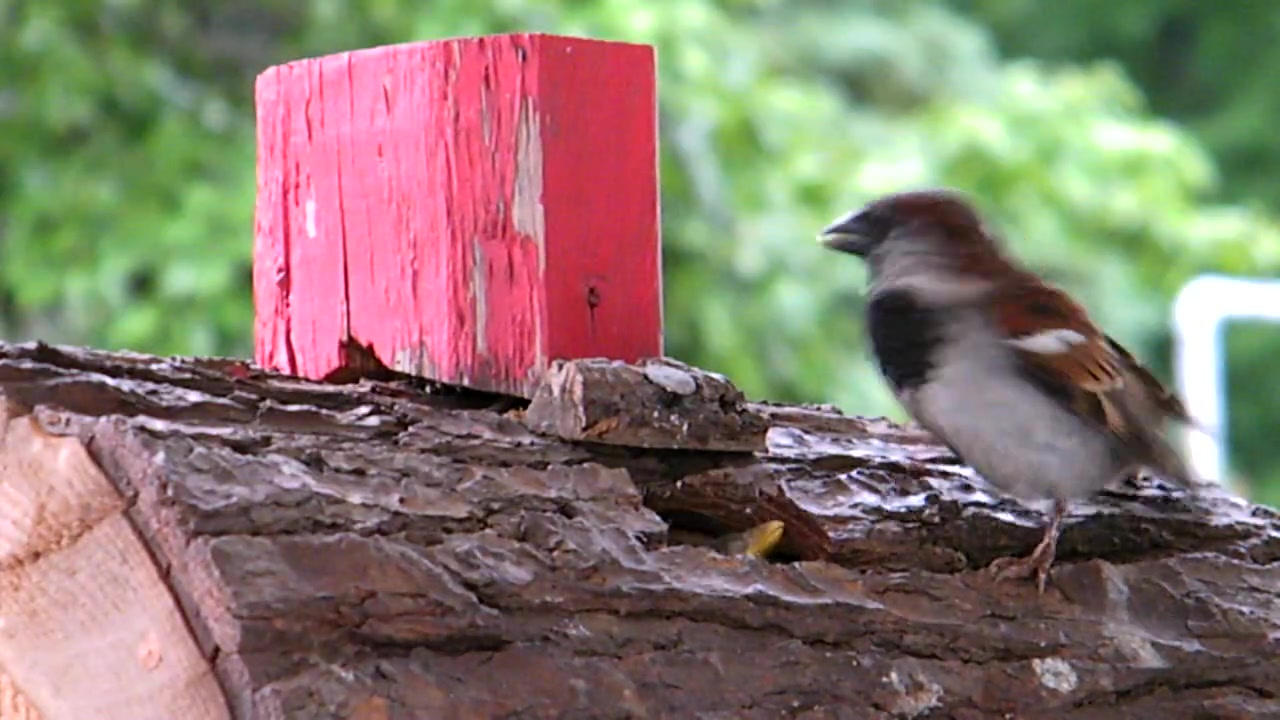bird: (818, 191, 1213, 598)
